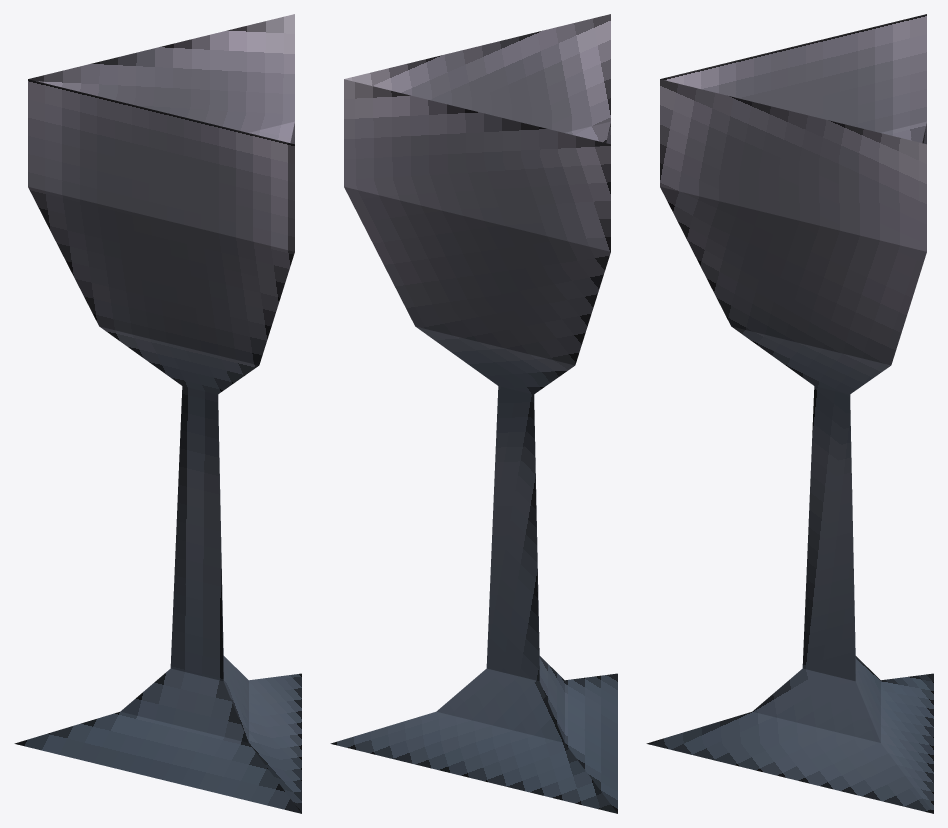
The model's file is cup.obj.
3 views of the same model, side by side, from view 1: azimuth 30°, elevation 25°; view 2: azimuth 150°, elevation 25°; view 3: azimuth 270°, elevation 25° (orthographic).
Visible parts, largest first — view 1: Copa.002_Circle.008; view 2: Copa.002_Circle.008; view 3: Copa.002_Circle.008.
Boxes of the visible parts, bbox=[...] form: Copa.002_Circle.008: bbox=[14, 14, 301, 813]; Copa.002_Circle.008: bbox=[330, 14, 617, 813]; Copa.002_Circle.008: bbox=[646, 14, 933, 813].
Bounding box in the file's own units: 0.1631 × 0.3598 × 0.1413.
